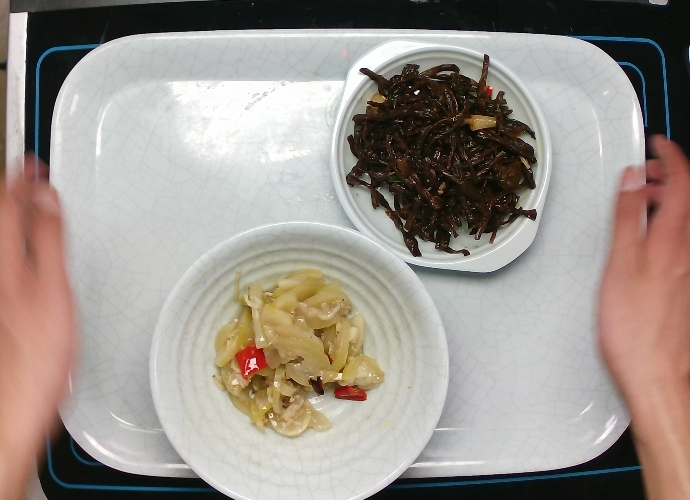JYsf-Shuang_Er_Pan: (328, 38, 553, 275)
JYsf-Xiao_Tang_Wan: (146, 219, 450, 500)
